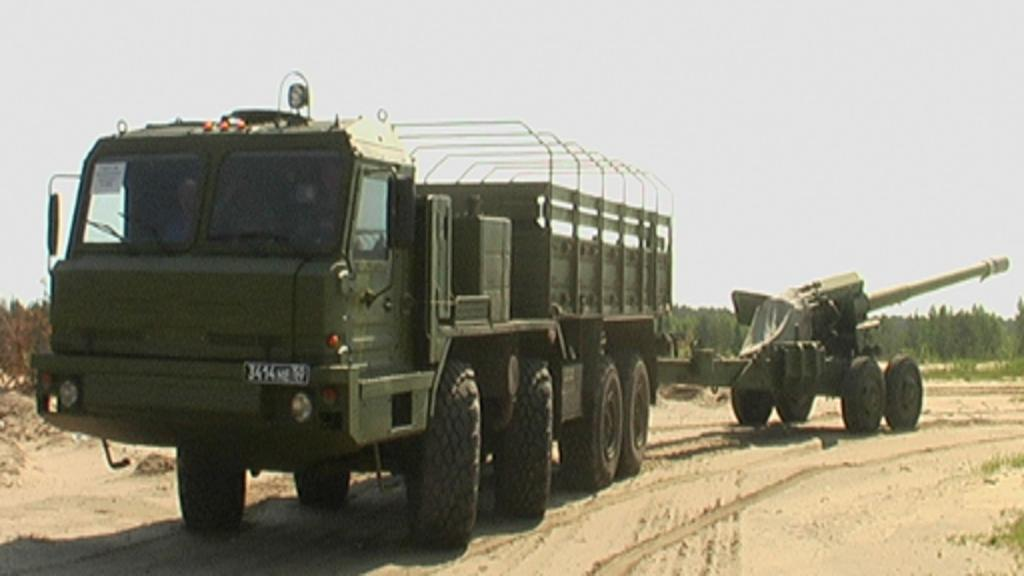ART: (728, 251, 1014, 430)
TRUCK: (24, 104, 676, 556)
